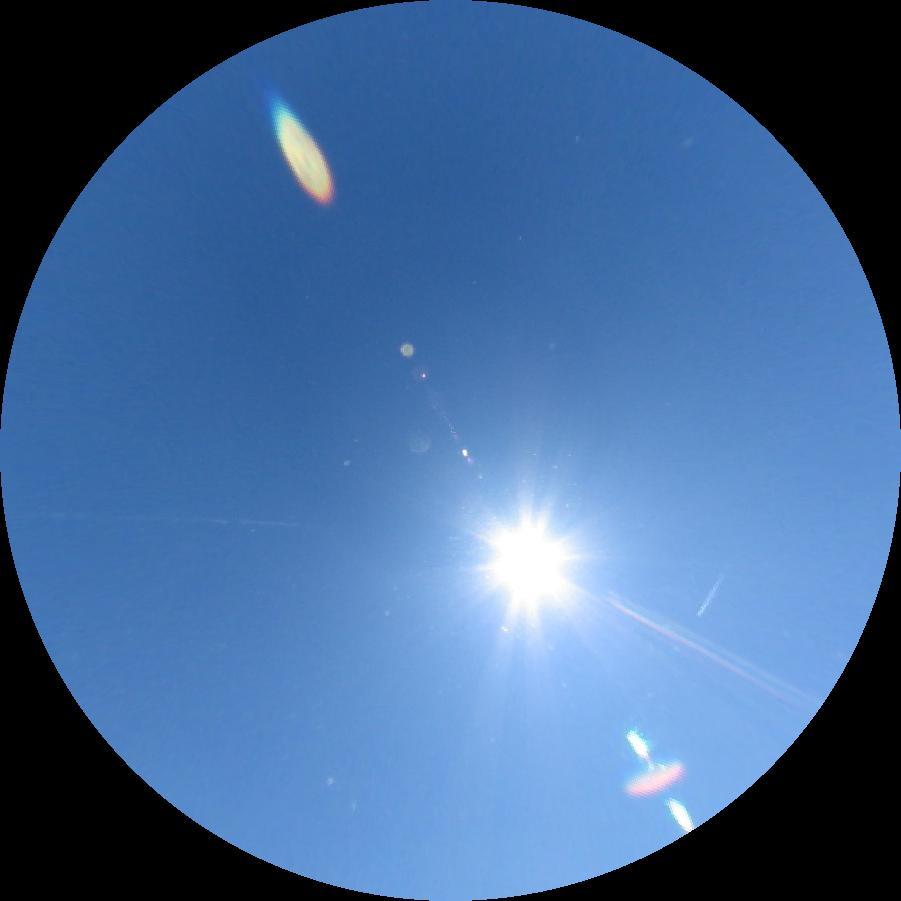contrail young: (696, 571, 727, 618)
parasite: (602, 598, 816, 715), (607, 590, 821, 705), (7, 513, 300, 527)
sun: (492, 516, 566, 610)
